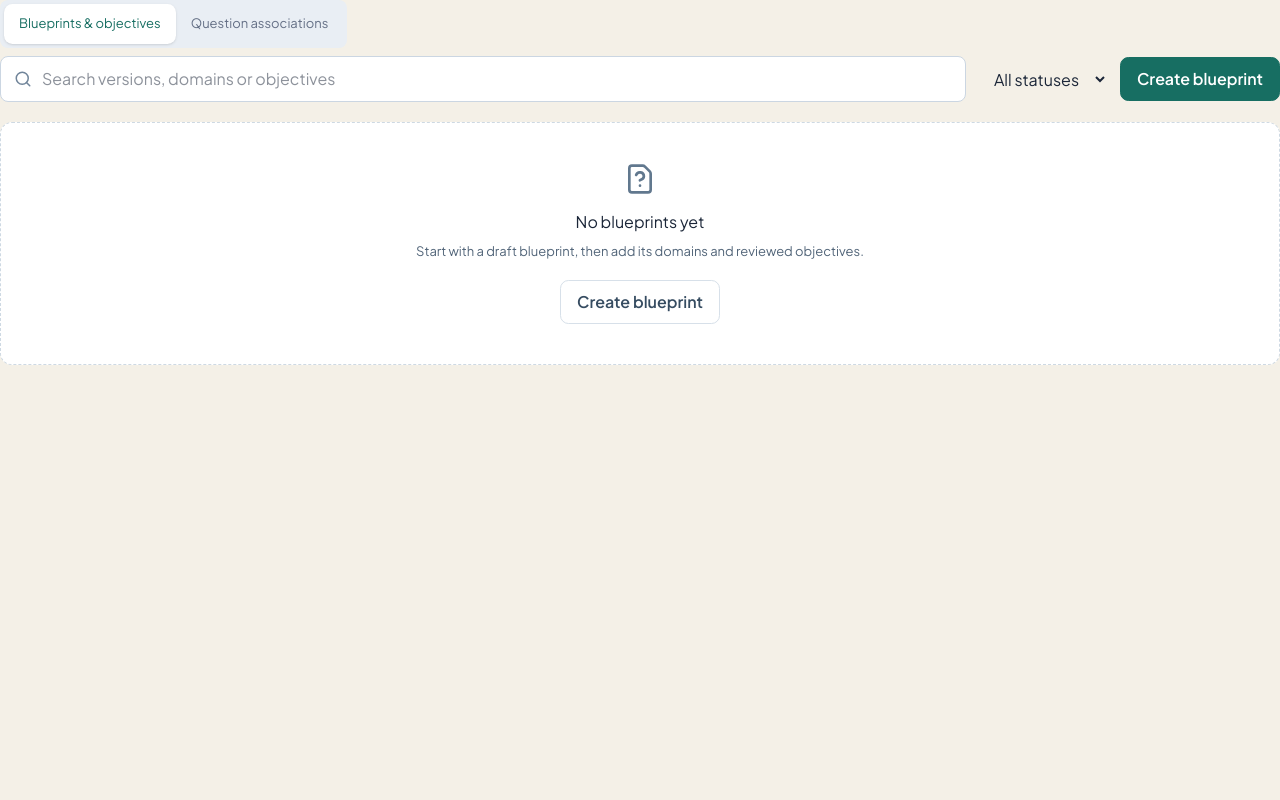
Test case: creates a blueprint as a draft and reports success
Click the 1st button "Create blueprint" at (1200, 79), box [1120, 57, 1279, 101]
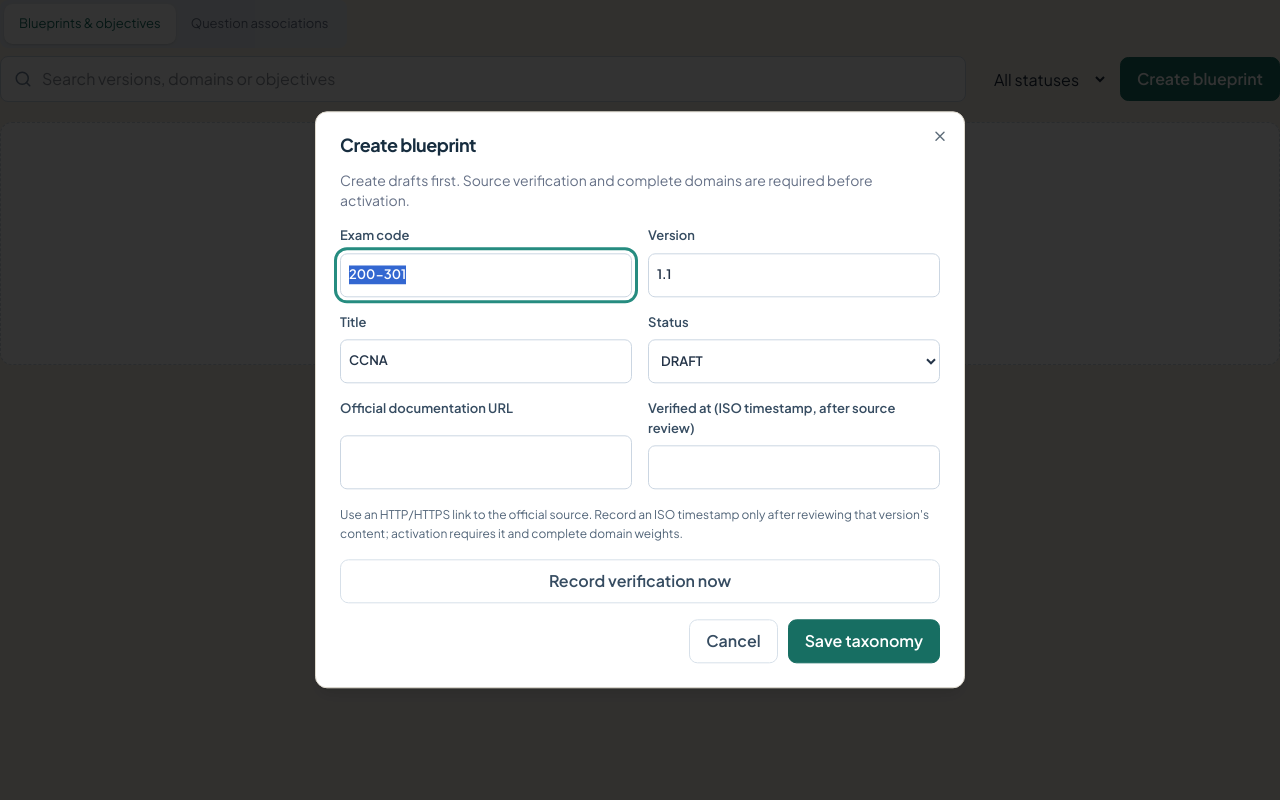
Click the button "Save taxonomy" at (864, 642), box [788, 620, 940, 664]
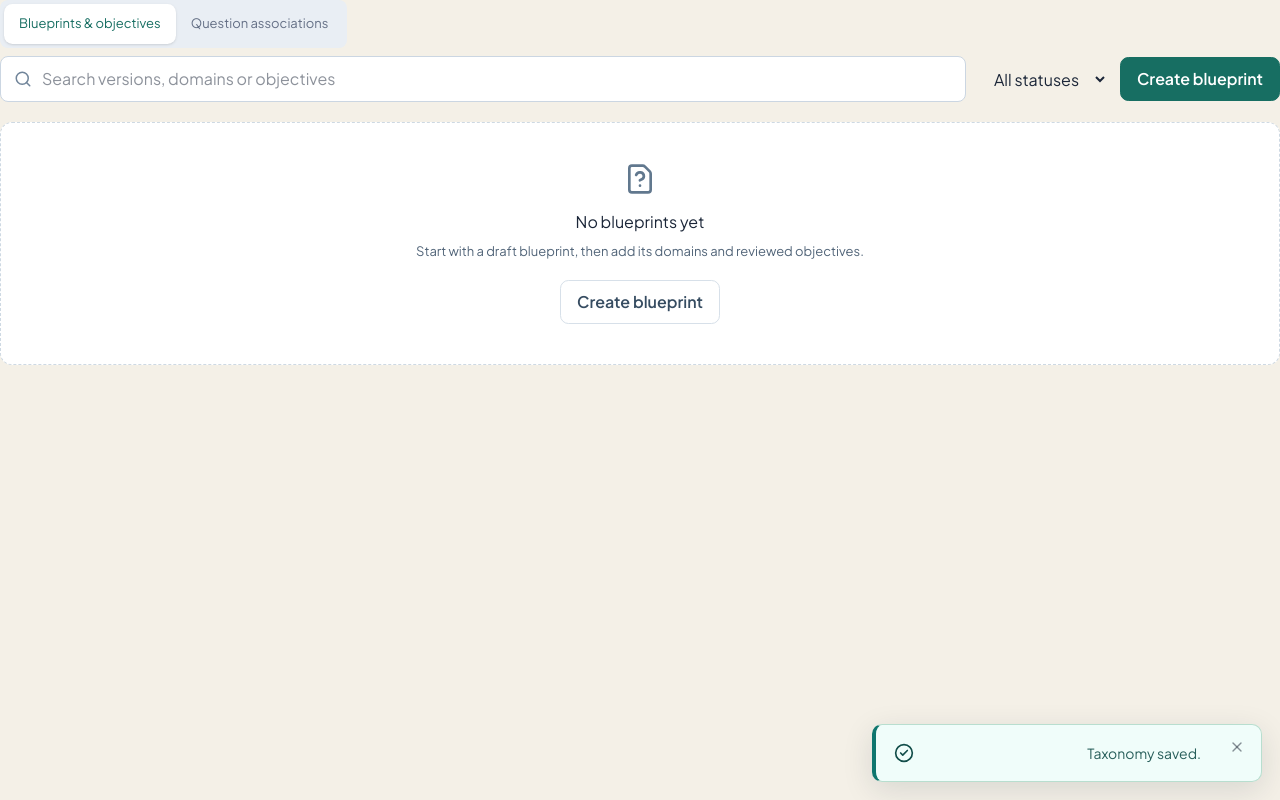
Check: the text "Taxonomy saved" is shown, box [1087, 744, 1201, 762]
